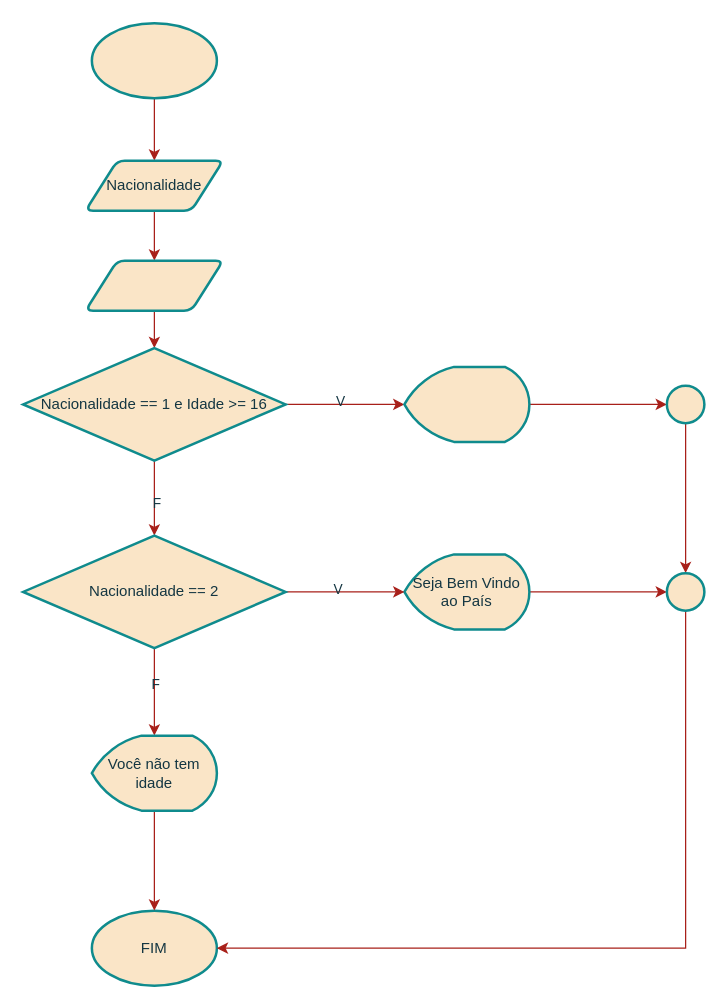
This 726x1008 diagram has some shape labels left out. Each missing label, with the centre of its shape:
Idade: (x=154, y=285)
Pode votar: (x=466, y=403)
Ínicio: (x=154, y=60)
